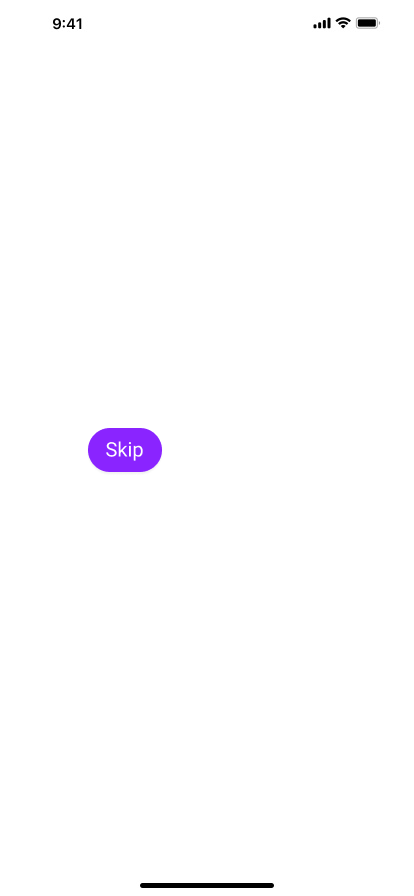Buttons: (86, 428, 164, 476)
Home Indicator: (0, 862, 414, 896)
Status Bar: (0, 0, 414, 44)
